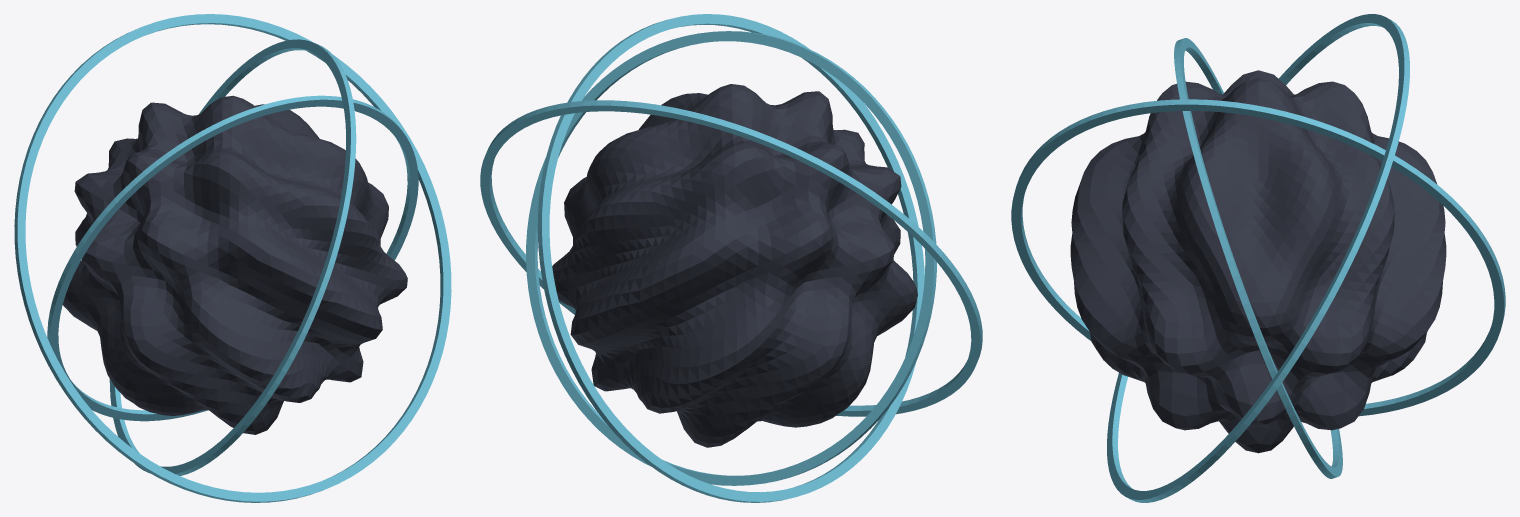
The model's file is gpu-artifact.glb.
The picture shows the model from 3 angles, left to right: view 1: azimuth 30°, elevation 25°; view 2: azimuth 150°, elevation 25°; view 3: azimuth 270°, elevation 25°; orthographic projection. The views are drawn at different scales.
Visible parts, largest first — view 1: zoth-scene-foundry_obsidian_core, zoth-scene-foundry_orbital_ring_2, zoth-scene-foundry_orbital_ring_0, zoth-scene-foundry_orbital_ring_1; view 2: zoth-scene-foundry_obsidian_core, zoth-scene-foundry_orbital_ring_1, zoth-scene-foundry_orbital_ring_0, zoth-scene-foundry_orbital_ring_2; view 3: zoth-scene-foundry_obsidian_core, zoth-scene-foundry_orbital_ring_1, zoth-scene-foundry_orbital_ring_2, zoth-scene-foundry_orbital_ring_0.
Part boxes in pixels (x1=…): zoth-scene-foundry_obsidian_core: x1=62, y1=95, x2=407, y2=434; zoth-scene-foundry_orbital_ring_2: x1=14, y1=14, x2=451, y2=502; zoth-scene-foundry_orbital_ring_0: x1=47, y1=95, x2=418, y2=421; zoth-scene-foundry_orbital_ring_1: x1=109, y1=39, x2=356, y2=475; zoth-scene-foundry_obsidian_core: x1=552, y1=84, x2=917, y2=447; zoth-scene-foundry_orbital_ring_1: x1=537, y1=14, x2=924, y2=502; zoth-scene-foundry_orbital_ring_0: x1=526, y1=31, x2=936, y2=485; zoth-scene-foundry_orbital_ring_2: x1=480, y1=100, x2=982, y2=416; zoth-scene-foundry_obsidian_core: x1=1070, y1=70, x2=1446, y2=453; zoth-scene-foundry_orbital_ring_1: x1=1011, y1=99, x2=1505, y2=416; zoth-scene-foundry_orbital_ring_2: x1=1107, y1=14, x2=1409, y2=502; zoth-scene-foundry_orbital_ring_0: x1=1174, y1=38, x2=1342, y2=478.
Bounding box in the file's own units: 3.23 × 2.75 × 2.93.
